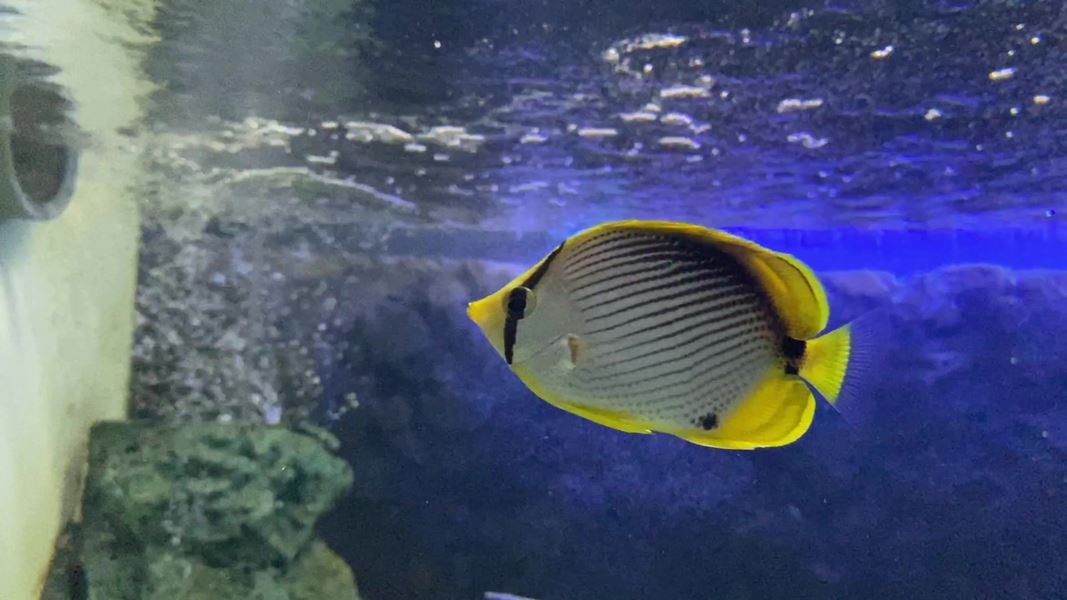Black-backed butterflyfish: (454, 207, 916, 466)
